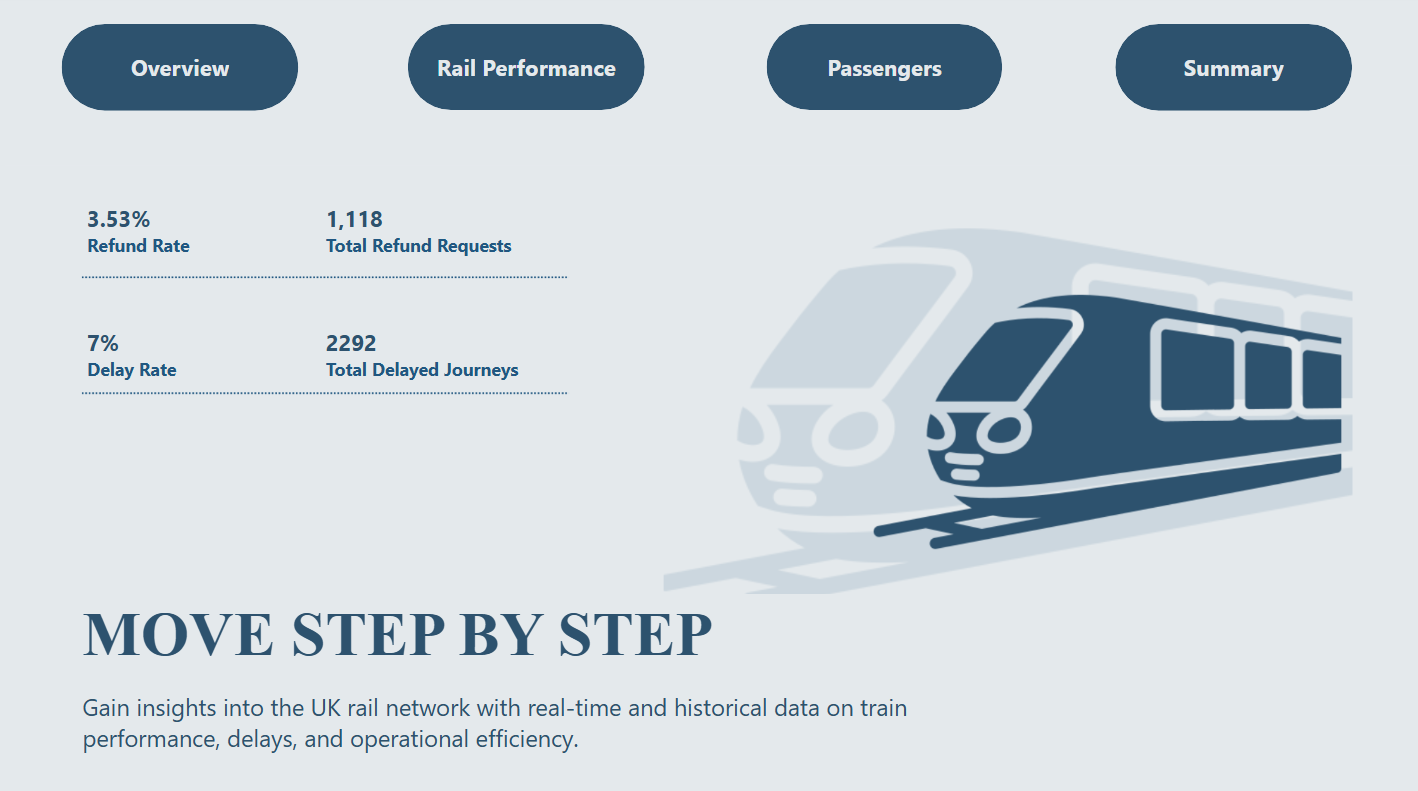

Layout of this report page (visuals, bound fields, positions):
{"tool":"powerbi","page":{"name":"Home","canvas":[1280,720],"ordinal":0},"visuals":[{"type":"image","box":[0,0,1280.4,720.2],"z":0},{"type":"actionButton","box":[56.3,26.9,214,78.3],"z":1000},{"type":"multiRowCard","fields":{"Values":["_Measures.Refund Rate","_Measures.Total Refund Requests"]},"box":[74.7,183.5,440.5,81],"z":2000},{"type":"multiRowCard","fields":{"Values":["_Measures.Delay Rate","_Measures.Total Delayed Journeys"]},"box":[74.7,294.9,440.5,81],"z":3000},{"type":"textbox","box":[0,541.1,1280.4,179.5],"z":4000},{"type":"actionButton","box":[368.6,27.1,214.2,77.8],"z":5000},{"type":"actionButton","box":[692.1,27.1,213,77.8],"z":6000},{"type":"actionButton","box":[1006.4,26.9,214,78.3],"z":7000}]}

Visuals, with their boxes in screenshot pixels (x1, y1, x2, y2), scaled from the page's 1280x720 canvas onto the 1418x791 screenshot:
image: {"x1": 0, "y1": 0, "x2": 1417, "y2": 790}
actionButton: {"x1": 62, "y1": 30, "x2": 299, "y2": 116}
multiRowCard - _Measures.Refund Rate x _Measures.Total Refund Requests: {"x1": 83, "y1": 202, "x2": 571, "y2": 291}
multiRowCard - _Measures.Delay Rate x _Measures.Total Delayed Journeys: {"x1": 83, "y1": 324, "x2": 571, "y2": 413}
textbox: {"x1": 0, "y1": 594, "x2": 1417, "y2": 790}
actionButton: {"x1": 408, "y1": 30, "x2": 646, "y2": 115}
actionButton: {"x1": 767, "y1": 30, "x2": 1003, "y2": 115}
actionButton: {"x1": 1115, "y1": 30, "x2": 1352, "y2": 116}
